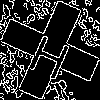H: (25, 25, 77, 82)
